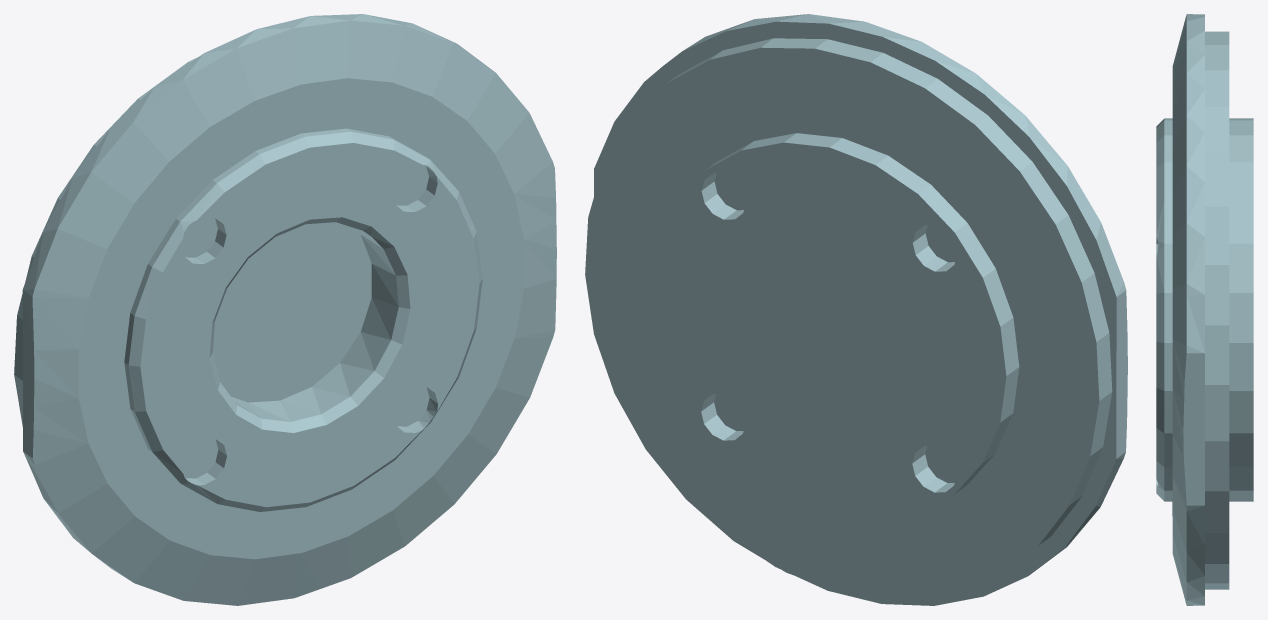
3 renders of one model, left to right at view 1: azimuth 30°, elevation 25°; view 2: azimuth 150°, elevation 25°; view 3: azimuth 270°, elevation 25°, orthographic. The views are drawn at different scales.
Visible parts, largest first — view 1: link7; view 2: link7; view 3: link7.
Part boxes in pixels (x1=…): link7: x1=14, y1=14, x2=556, y2=605; link7: x1=585, y1=14, x2=1127, y2=605; link7: x1=1156, y1=14, x2=1253, y2=605.
Size of the model in its own units: 0.07 by 0.073 by 0.012.
